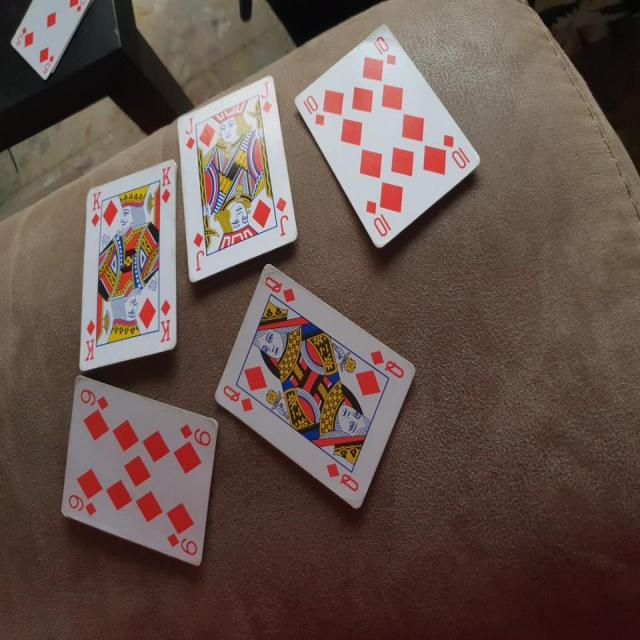10 Diamonds: (293, 21, 481, 252)
9 Diamonds: (60, 374, 218, 569)
J Diamonds: (174, 73, 298, 284)
K Diamonds: (77, 159, 180, 373)
Q Diamonds: (211, 258, 418, 514)
